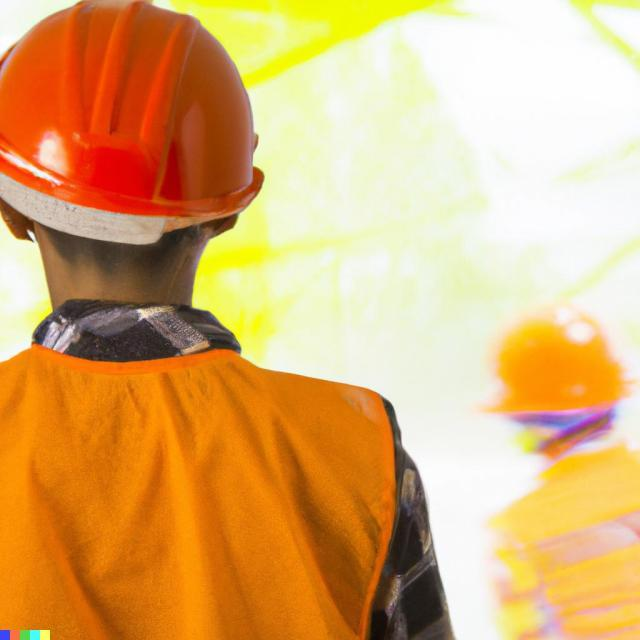reflective_jacket: (0, 313, 419, 631), (482, 452, 638, 639)
safety_helmet: (0, 6, 270, 237), (472, 293, 636, 426)
